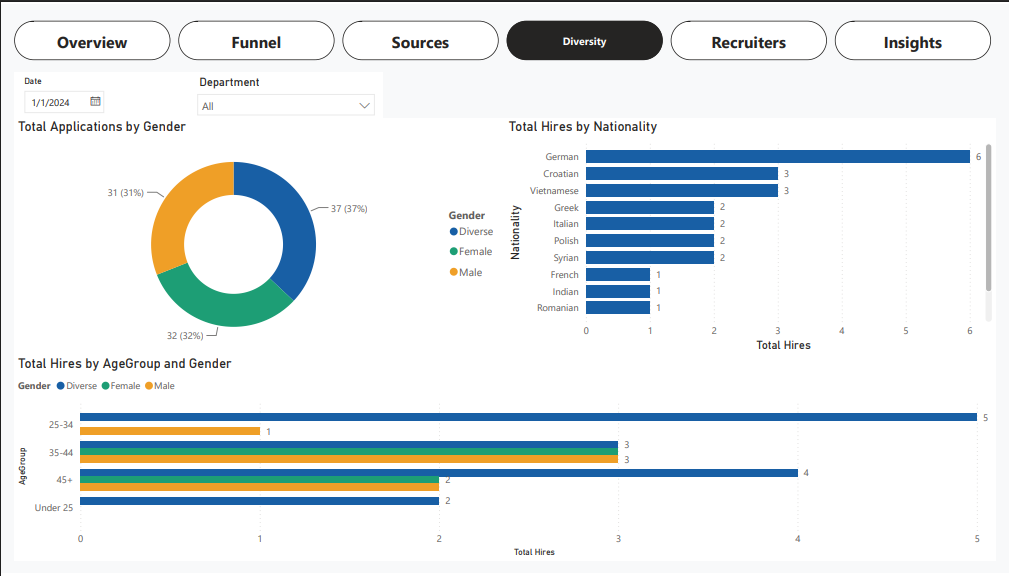

What the dashboard file says about the page in this screenshot:
{"tool":"powerbi","page":{"name":"Diversity","canvas":[1280,720],"ordinal":3},"visuals":[{"type":"donutChart","fields":{"Category":["Candidates.Gender"],"Y":["_Measures.Total Applications"]},"box":[18,144,622,300],"z":0},{"type":"clusteredBarChart","fields":{"Category":["Candidates.Nationality"],"Y":["_Measures.Total Hires"]},"box":[640,144,622,300],"z":1000},{"type":"clusteredBarChart","fields":{"Y":["_Measures.Total Hires"],"Category":["Candidates.AgeGroup"],"Series":["Candidates.Gender"]},"box":[18,444,1244,260],"z":2000},{"type":"slicer","fields":{"Values":["DateTable.Date"]},"box":[18.3,85,221.7,58.3],"z":3000},{"type":"slicer","fields":{"Values":["Candidates.Department"]},"box":[240,85,245,58.3],"z":4000},{"type":"pageNavigator","box":[18.3,20,1243.3,50],"z":5000}]}

Visuals, with their boxes in screenshot pixels (x1, y1, x2, y2), scaled from the page's 1280x720 canvas onto the 1009x576 screenshot:
donutChart - Candidates.Gender x _Measures.Total Applications: BBox(14, 115, 504, 355)
clusteredBarChart - Candidates.Nationality x _Measures.Total Hires: BBox(504, 115, 995, 355)
clusteredBarChart - _Measures.Total Hires x Candidates.AgeGroup: BBox(14, 355, 995, 563)
slicer - DateTable.Date: BBox(14, 68, 189, 115)
slicer - Candidates.Department: BBox(189, 68, 382, 115)
pageNavigator: BBox(14, 16, 994, 56)
